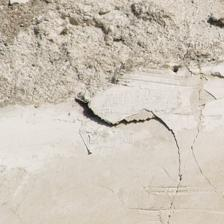Crack: (51, 140, 210, 224), (51, 0, 175, 94)
